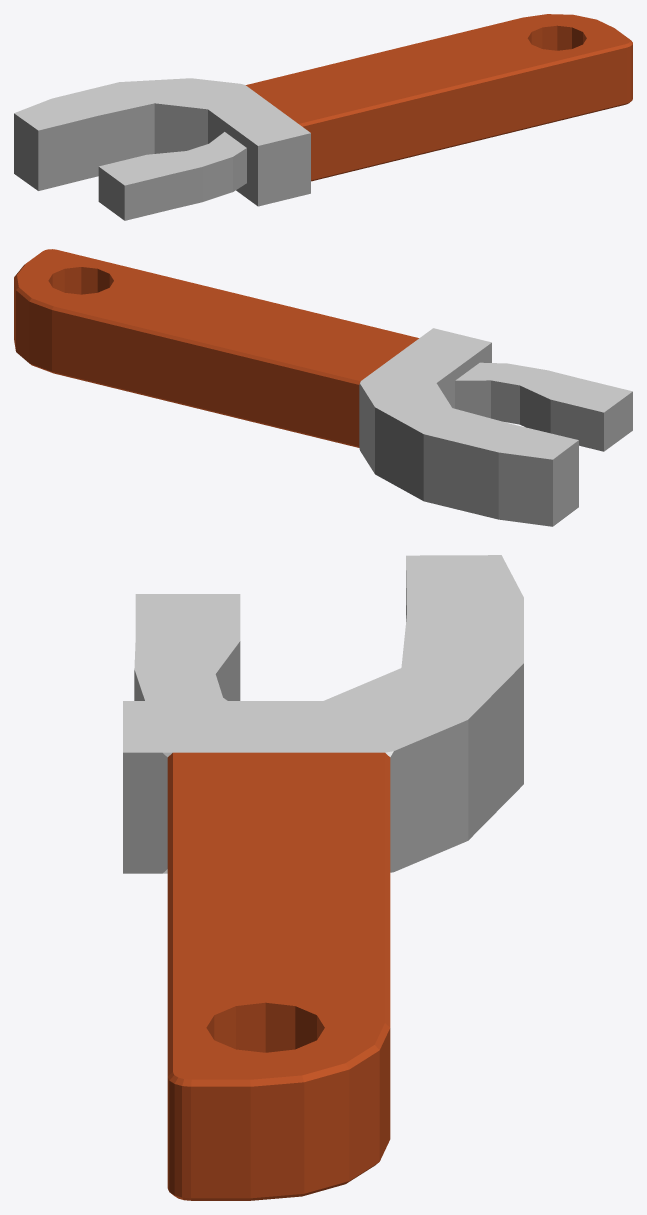
The model's file is wrench.glb.
3 views of the same model, one above another, from view 1: azimuth 30°, elevation 25°; view 2: azimuth 150°, elevation 25°; view 3: azimuth 270°, elevation 25° (orthographic). The views are drawn at different scales.
Visible parts, largest first — view 1: Plane.001; view 2: Plane.001; view 3: Plane.001.
Part boxes in pixels (x1=…): Plane.001: x1=14, y1=14, x2=632, y2=220; Plane.001: x1=14, y1=249, x2=632, y2=526; Plane.001: x1=123, y1=555, x2=523, y2=1200.
Bounding box in the file's own units: 2.42 × 0.2593 × 0.7779.
Materials: 1 (1 with a texture image).
